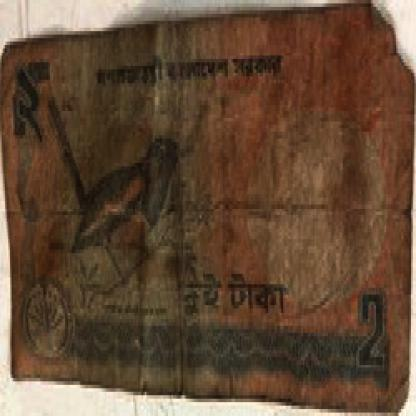two taka: (175, 256, 298, 326), (13, 62, 48, 146)
